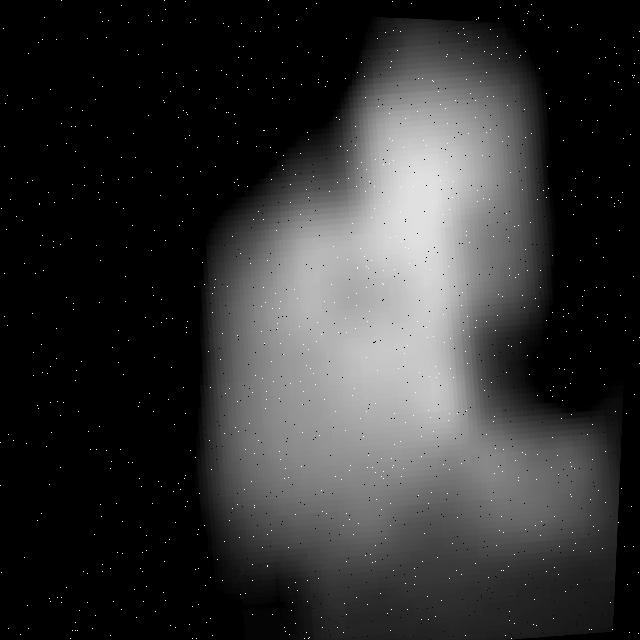person: (149, 7, 640, 624)
